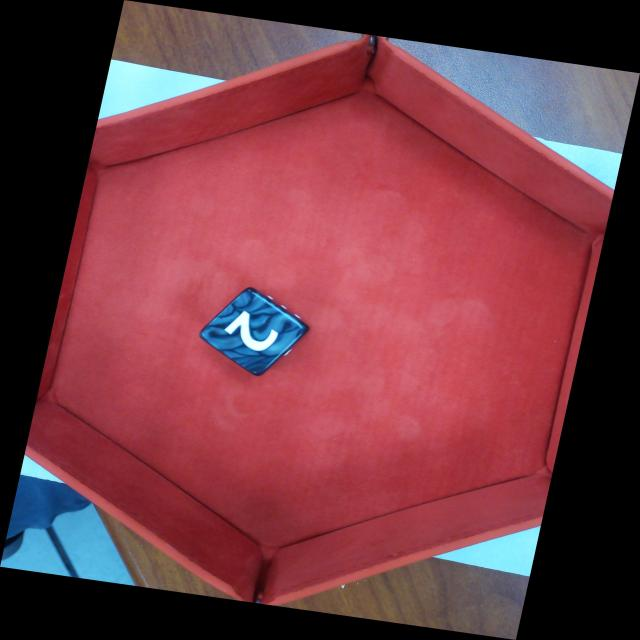dice: (196, 284, 312, 379)
